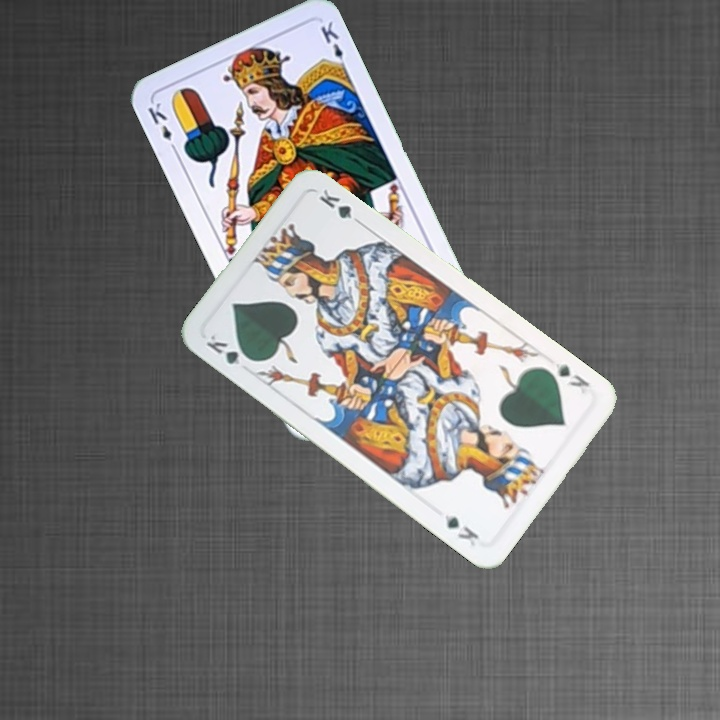EK: (143, 98, 180, 156)
GK: (202, 330, 257, 369), (549, 358, 593, 397)
